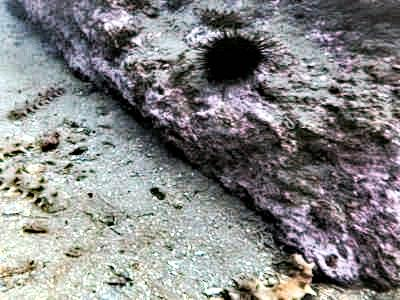urchin: (200, 24, 270, 88)
